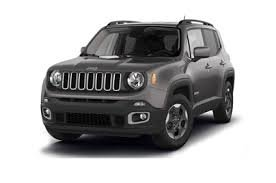mobil: (42, 17, 238, 151)
